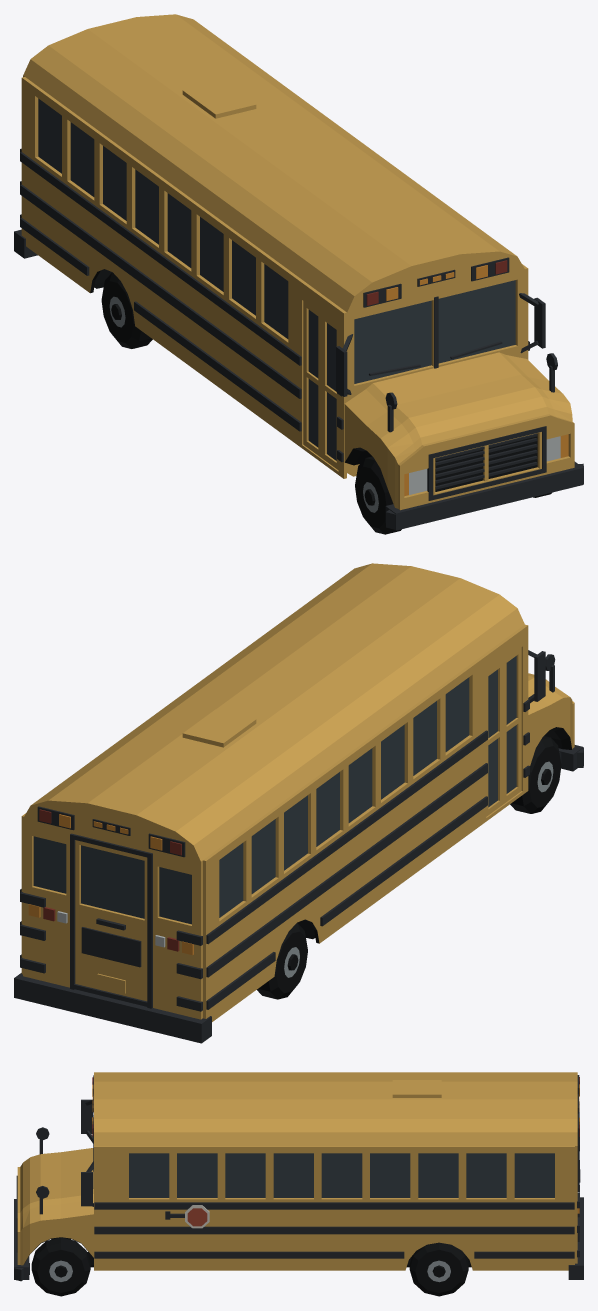
Rendered from yellow-school-bus-0fd3b6.glb.
The picture shows the model from 3 angles, top to bottom: view 1: azimuth 30°, elevation 25°; view 2: azimuth 150°, elevation 25°; view 3: azimuth 270°, elevation 25°; orthographic projection. The views are drawn at different scales.
Parts seen in each view (by area): view 1: bus-body, wheel-rr, wheel-fr; view 2: bus-body, wheel-fr, wheel-rr; view 3: bus-body, wheel-fl, wheel-rl.
Part boxes in pixels (x1=…): bus-body: x1=14, y1=14, x2=583, y2=530; wheel-rr: x1=101, y1=272, x2=152, y2=348; wheel-fr: x1=355, y1=456, x2=401, y2=534; bus-body: x1=14, y1=563, x2=583, y2=1043; wheel-fr: x1=510, y1=736, x2=561, y2=813; wheel-rr: x1=257, y1=923, x2=307, y2=999; bus-body: x1=14, y1=1072, x2=583, y2=1281; wheel-fl: x1=31, y1=1237, x2=90, y2=1296; wheel-rl: x1=409, y1=1242, x2=468, y2=1296.
Size of the model in its own units: 2.47 by 2.81 by 8.11.
